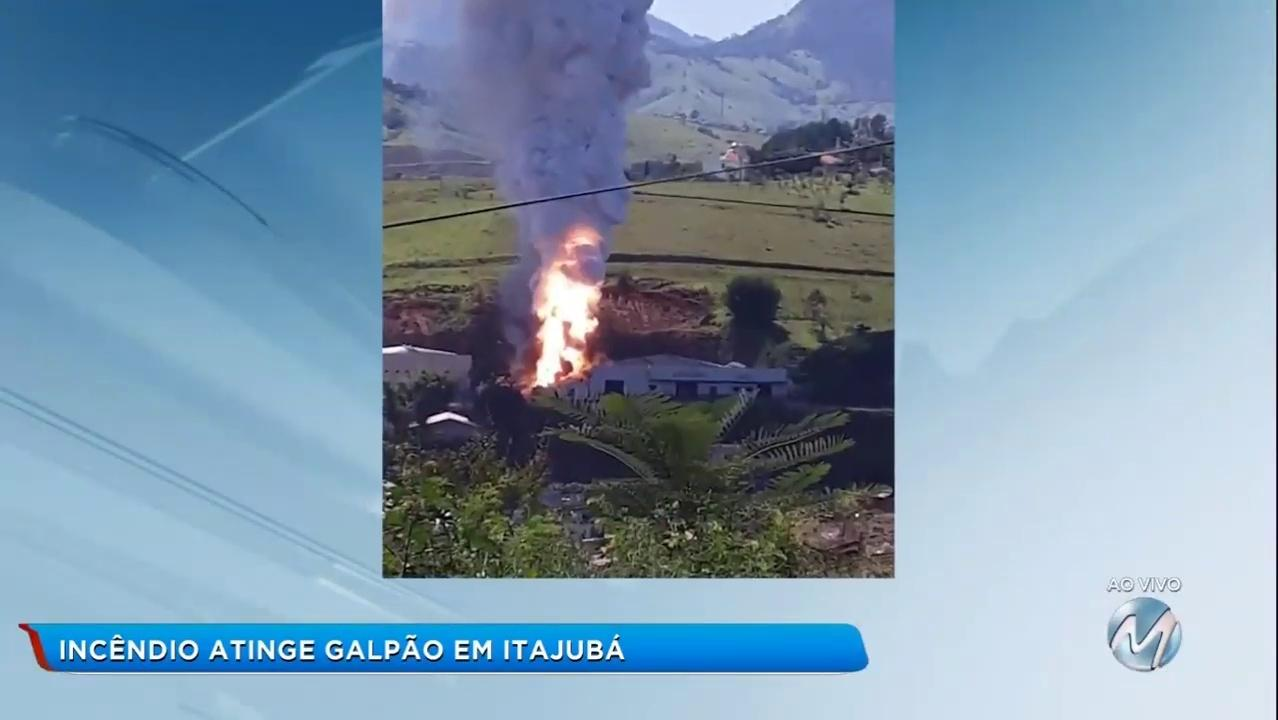Fire: (511, 215, 616, 398)
